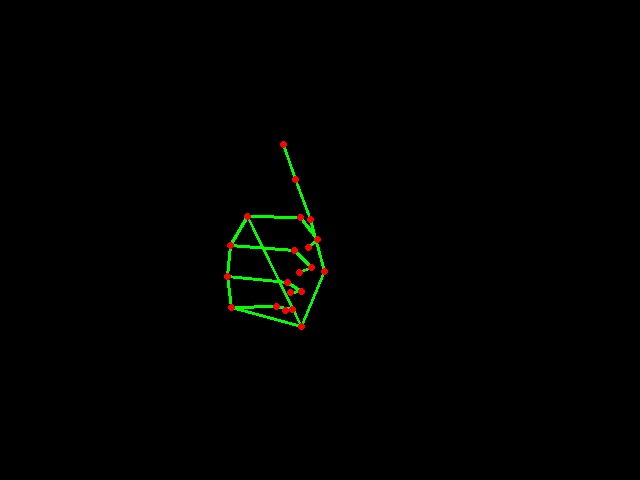fast: (216, 130, 334, 336)
